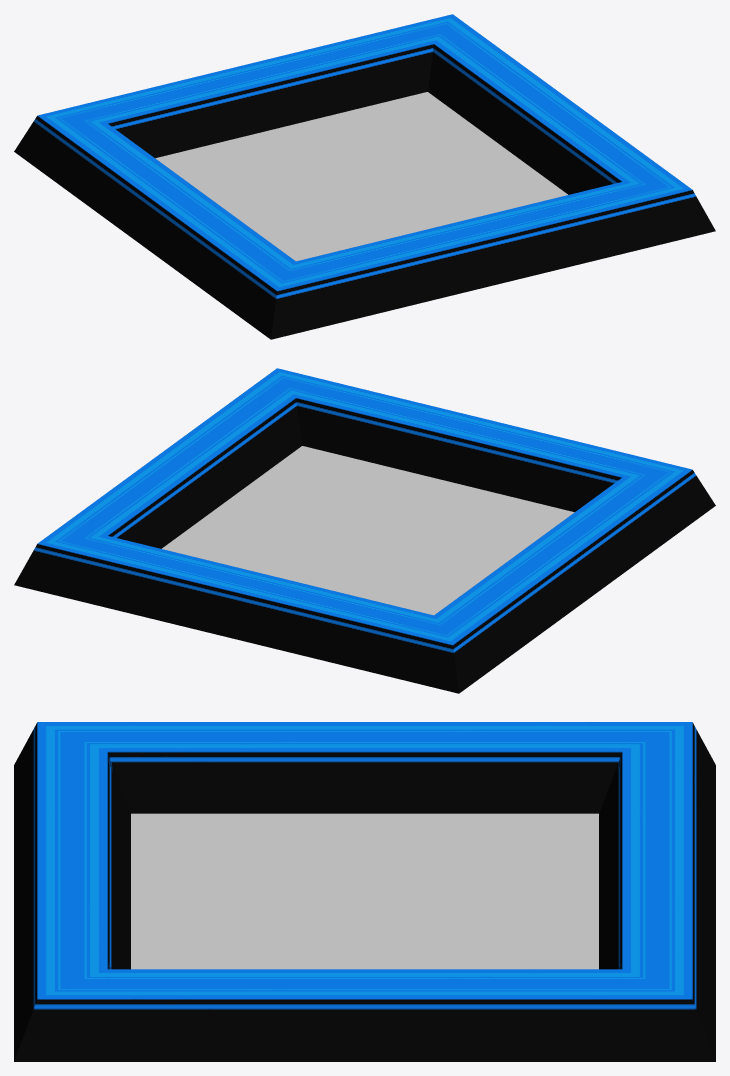
File: Gate.fbx
3 views of the same model, one above another, from view 1: azimuth 30°, elevation 25°; view 2: azimuth 150°, elevation 25°; view 3: azimuth 270°, elevation 25° (orthographic). The views are drawn at different scales.
Parts seen in each view (by area): view 1: Plane, 3DViewPlate; view 2: Plane, 3DViewPlate; view 3: Plane, 3DViewPlate.
Boxes of the visible parts, <box> form: Plane: <box>14,14,715,339</box>; 3DViewPlate: <box>155,92,567,261</box>; Plane: <box>14,368,715,693</box>; 3DViewPlate: <box>162,446,574,615</box>; Plane: <box>14,722,715,1061</box>; 3DViewPlate: <box>131,813,598,969</box>.
Bounding box in the file's own units: 600 × 50 × 600.
2 materials, 1 textured.
